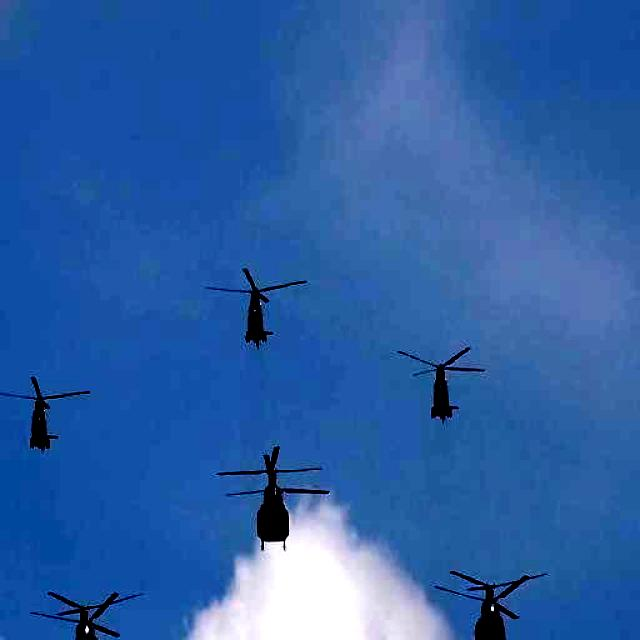drone: (216, 444, 330, 555), (204, 261, 308, 351), (431, 568, 552, 640), (0, 371, 94, 459), (396, 341, 486, 426), (31, 584, 146, 640)
